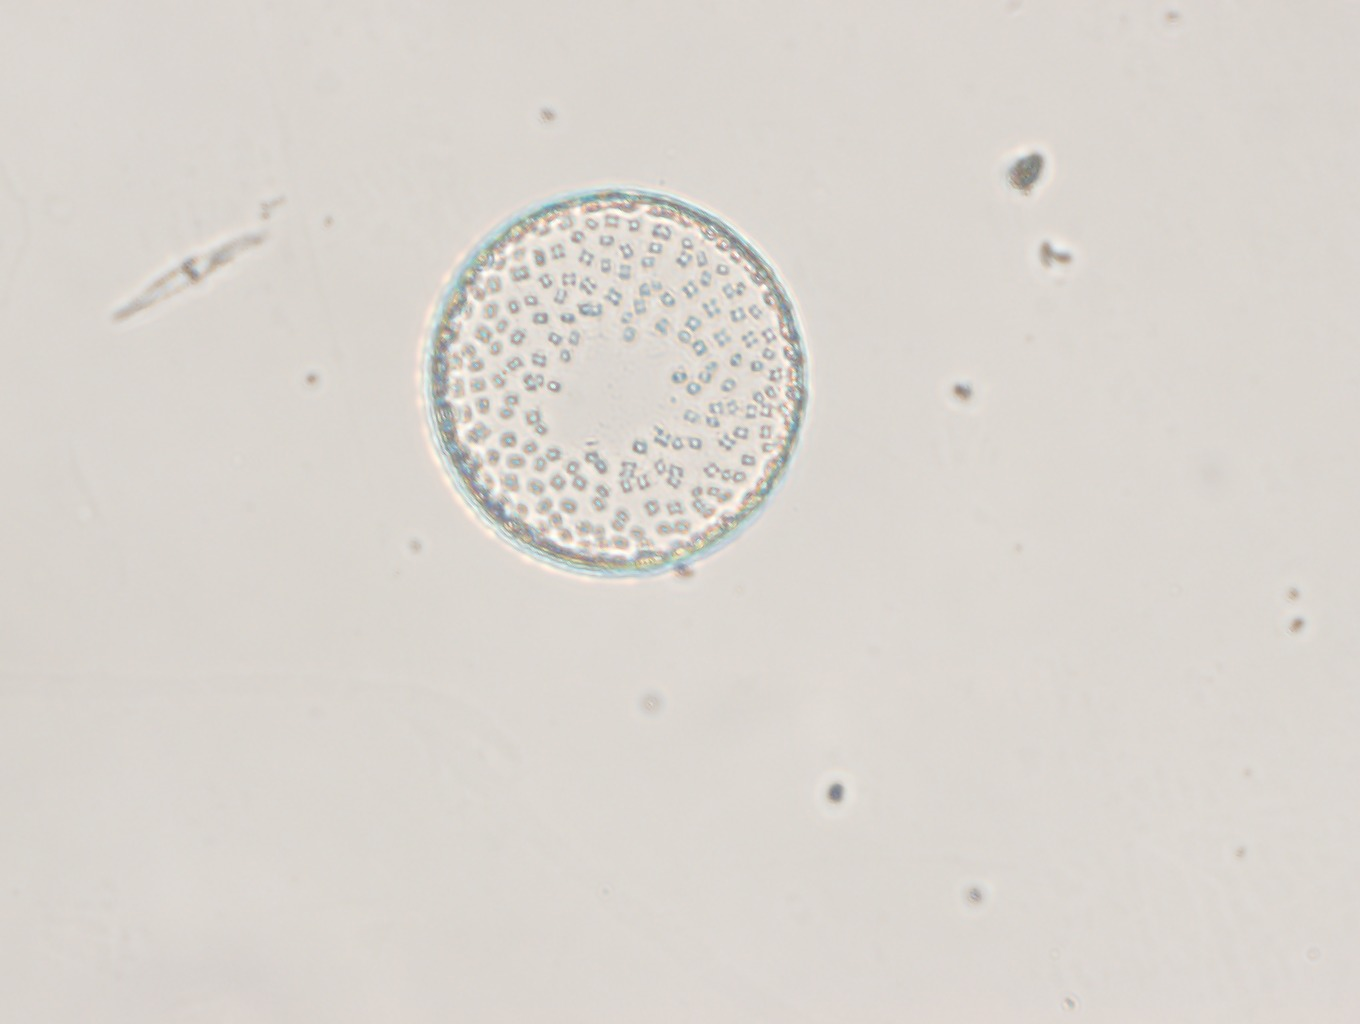coscinodiscus: (421, 180, 819, 587)
